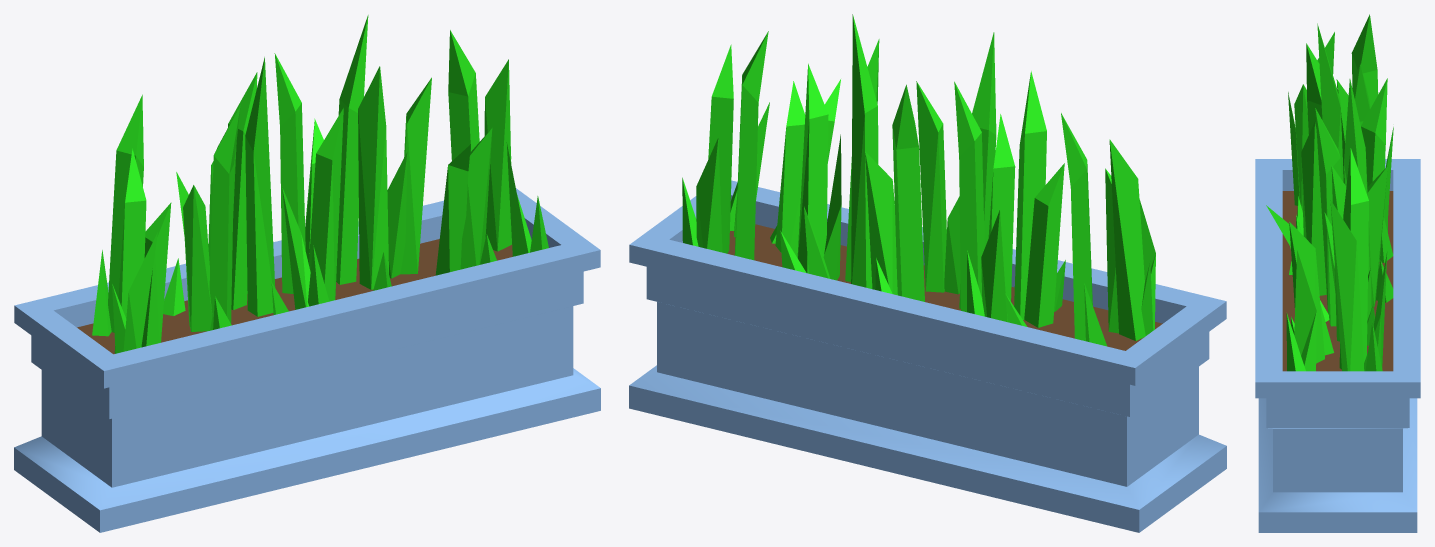
File: PlantBank_02.fbx
The picture shows the model from 3 angles, left to right: view 1: azimuth 30°, elevation 25°; view 2: azimuth 150°, elevation 25°; view 3: azimuth 270°, elevation 25°; orthographic projection. The views are drawn at different scales.
Visible parts, largest first — view 1: SM_Prop_Plant_02; view 2: SM_Prop_Plant_02; view 3: SM_Prop_Plant_02.
Part boxes in pixels (left/top/right/bottom): SM_Prop_Plant_02: left=14, top=15, right=600, bottom=532; SM_Prop_Plant_02: left=629, top=14, right=1226, bottom=532; SM_Prop_Plant_02: left=1255, top=14, right=1420, bottom=532.
Size of the model in its own units: 1.85 by 1.43 by 0.5737.
